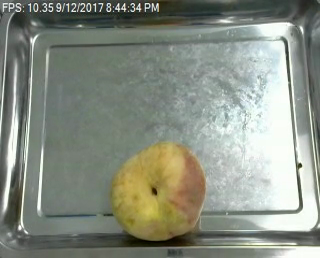Peach: (110, 140, 206, 241)
